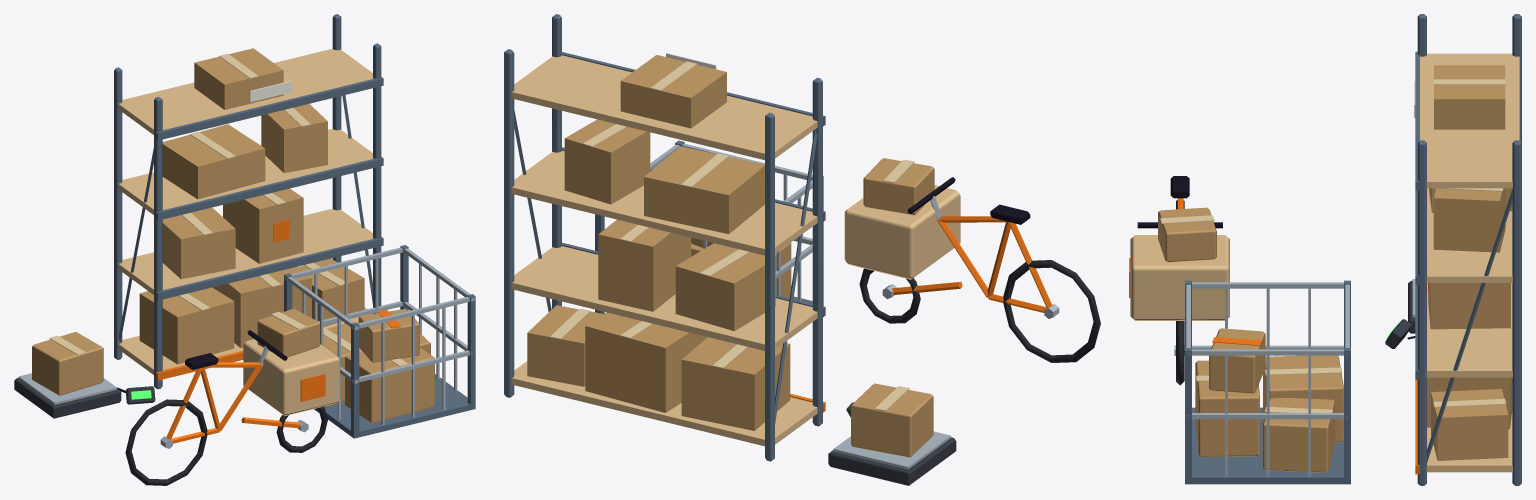
Rendered from station_transport_1.glb.
The picture shows the model from 3 angles, left to right: view 1: azimuth 30°, elevation 25°; view 2: azimuth 150°, elevation 25°; view 3: azimuth 270°, elevation 25°; orthographic projection. The views are drawn at different scales.
Parts seen in each view (by area): view 1: station_transport_1; view 2: station_transport_1; view 3: station_transport_1.
Boxes of the visible parts, x1,y1,x2,y2 form: station_transport_1: [14, 14, 475, 485]; station_transport_1: [504, 14, 1100, 485]; station_transport_1: [1129, 14, 1521, 485].
Bounding box in the file's own units: 2.06 × 1.6 × 1.66.
